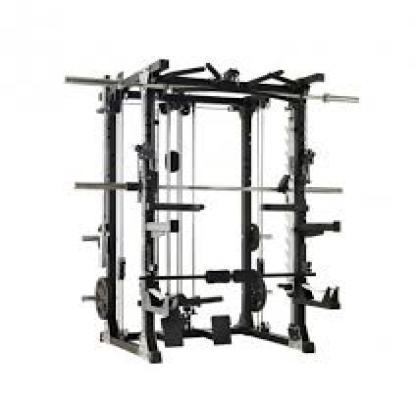smith machine: (63, 59, 360, 364)
